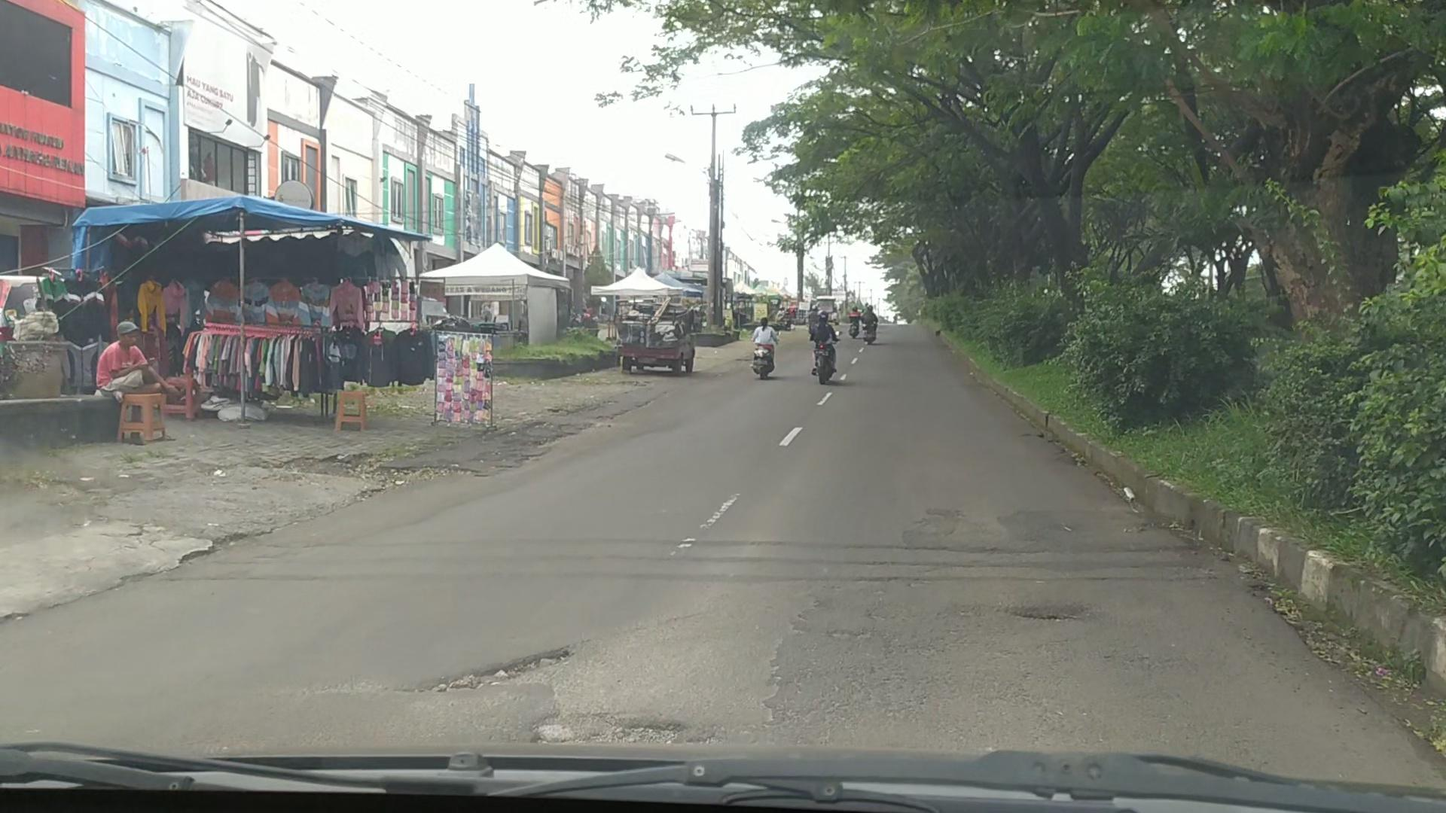pothole: (428, 647, 569, 690), (604, 712, 682, 746)
